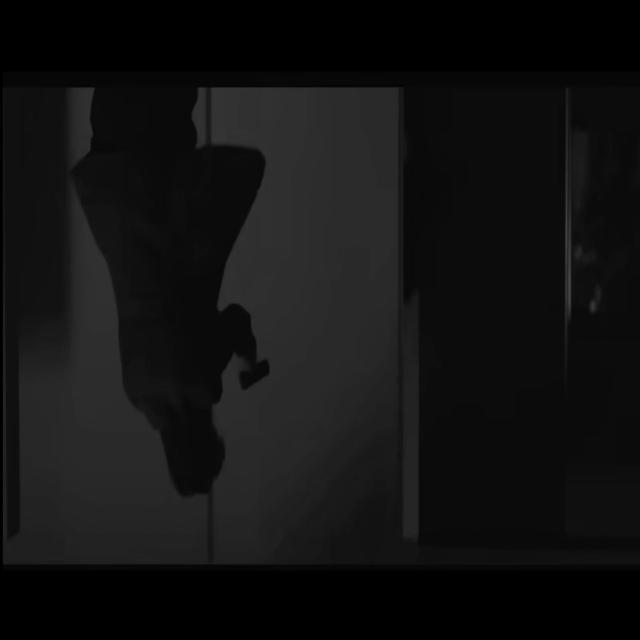weapons: (232, 306, 282, 402)
